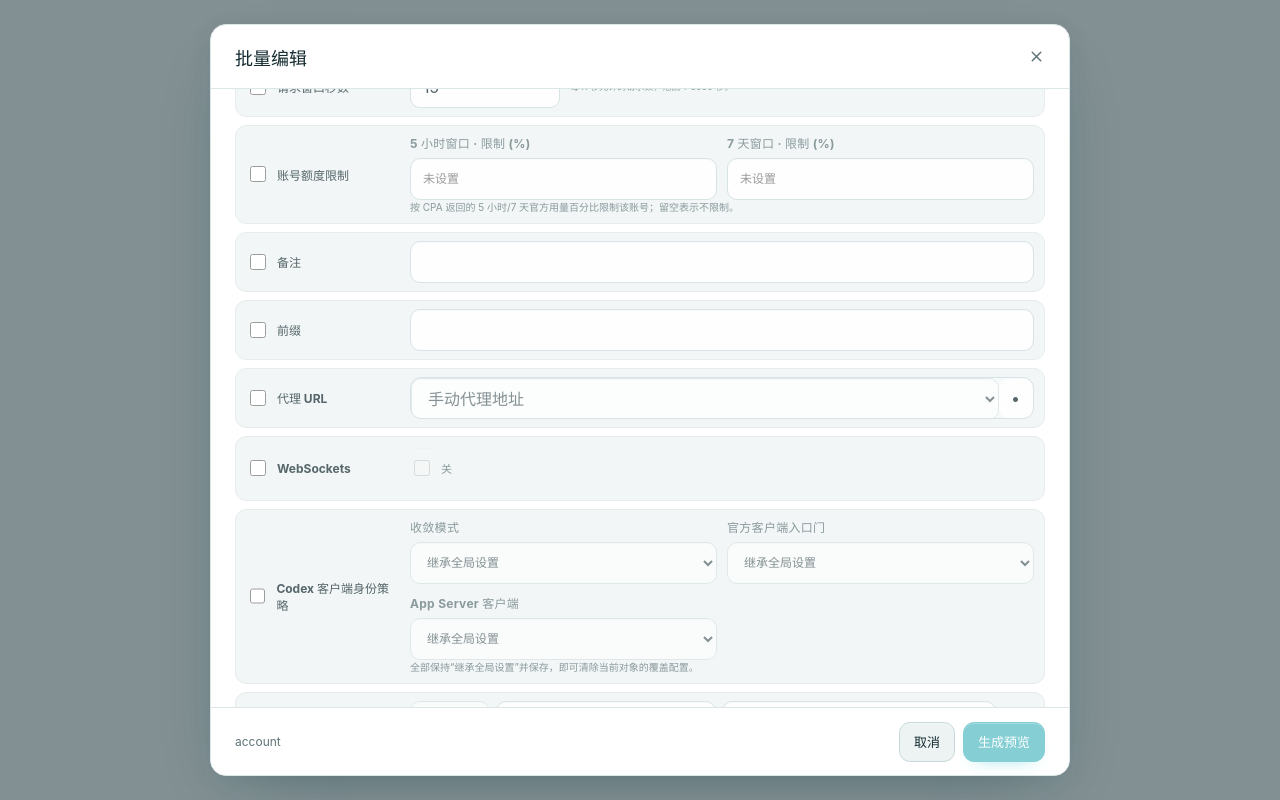
Test: BatchEditor › refuses to submit the redacted proxy display value unchanged (configured)
(page scrolled)
Click the checkbox labelled "代理 URL" at (258, 398), box 250,390 -> 266,406
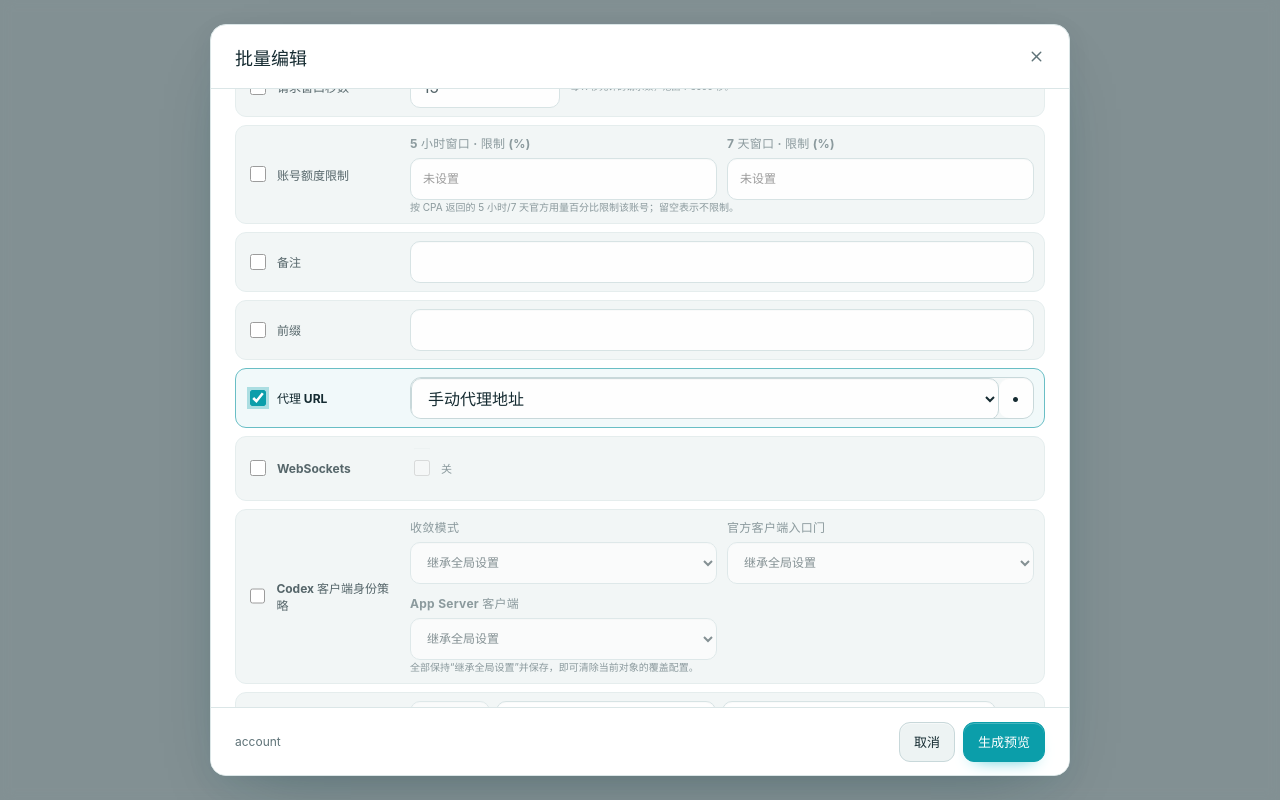
Click the button "生成预览" at (1004, 742), box 963,722 -> 1045,762
(page scrolled)
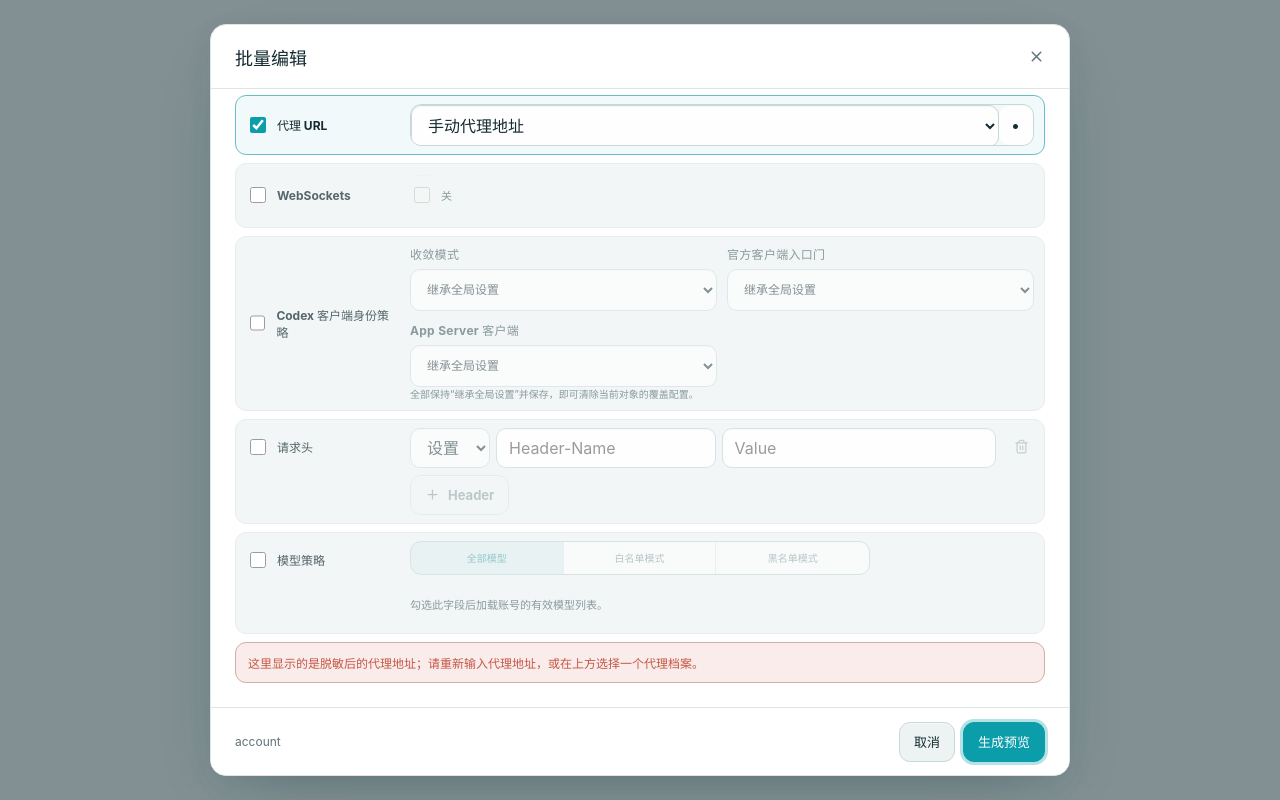
Expected: the message shows "脱敏", 235,642 -> 1045,683
